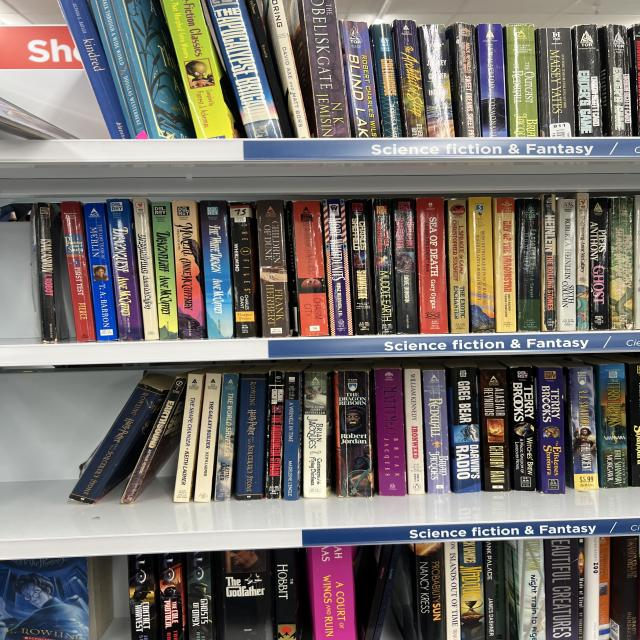book: (86, 364, 216, 509), (68, 367, 173, 517), (109, 0, 198, 149), (56, 0, 140, 145), (205, 0, 285, 147), (161, 0, 239, 146), (236, 0, 309, 140), (289, 0, 351, 142), (88, 0, 149, 143), (458, 541, 539, 640), (262, 0, 311, 142), (211, 549, 275, 640), (289, 199, 330, 337), (105, 198, 144, 341), (60, 201, 97, 342), (82, 202, 119, 342), (198, 200, 235, 339), (339, 18, 381, 140), (343, 540, 394, 640), (306, 544, 359, 640), (171, 199, 207, 340), (232, 371, 271, 501), (255, 200, 291, 338), (205, 372, 242, 502), (414, 197, 449, 334), (335, 371, 373, 497), (390, 18, 429, 139), (562, 365, 599, 490), (446, 366, 482, 493), (535, 27, 576, 138), (502, 24, 540, 138), (445, 22, 482, 139), (418, 23, 455, 139), (541, 538, 583, 640), (594, 363, 628, 488), (322, 199, 353, 336), (174, 372, 206, 503), (374, 368, 407, 495), (230, 204, 261, 338), (150, 202, 180, 340), (478, 367, 511, 492), (346, 200, 376, 335), (533, 367, 565, 493), (420, 369, 452, 494), (132, 198, 160, 340), (29, 202, 57, 343), (466, 197, 495, 333), (369, 24, 403, 139), (193, 372, 223, 502), (598, 24, 632, 137), (303, 368, 332, 498), (586, 197, 614, 330), (48, 205, 74, 341), (476, 24, 507, 138), (372, 199, 397, 335), (572, 24, 602, 137), (393, 199, 418, 334), (509, 367, 536, 490), (367, 543, 401, 640), (493, 198, 517, 333), (515, 539, 547, 640), (413, 543, 446, 640), (516, 199, 540, 331), (609, 197, 633, 329), (402, 366, 426, 495), (446, 200, 469, 333), (182, 551, 215, 640), (127, 554, 161, 640), (610, 537, 638, 639), (272, 549, 303, 639), (556, 198, 576, 330), (282, 201, 301, 336), (265, 371, 285, 499), (283, 372, 303, 500), (158, 553, 187, 639), (482, 541, 507, 640), (540, 194, 557, 331), (582, 537, 601, 639), (575, 193, 589, 330), (442, 542, 461, 640), (573, 538, 589, 639), (626, 363, 639, 486), (504, 541, 519, 639), (628, 24, 639, 135), (599, 537, 610, 639), (632, 196, 639, 327)
